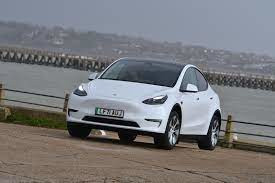car: (65, 56, 223, 150)
